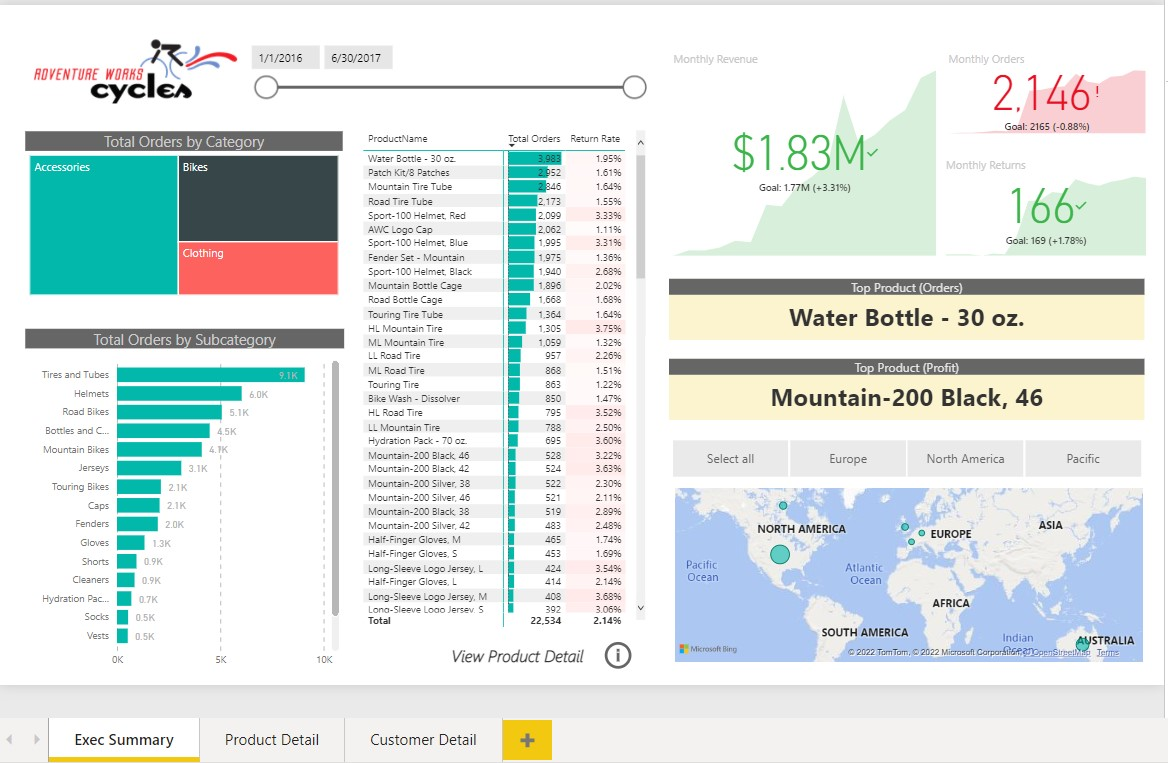

Layout of this report page (visuals, bound fields, positions):
{"tool":"powerbi","page":{"name":"Exec Summary","canvas":[1280,720],"ordinal":0},"visuals":[{"type":"map","fields":{"Category":["AW_Territories_Lookup.Country"],"Size":["AW_Sales.Total Orders"]},"box":[737.2,499.1,523.3,201.3],"z":0},{"type":"slicer","fields":{"Values":["AW_Territories_Lookup.Continent"]},"box":[714.2,443.9,564.7,54.1],"z":1000},{"type":"textbox","box":[492.1,670.1,259.7,37.7],"z":2000},{"type":"image","box":[31.1,5.5,240.2,80.1],"z":3000},{"type":"barChart","title":"Total Orders by Subcategory","fields":{"Y":["AW_Sales.Total Orders"],"Category":["AW_Product_Subcategory_Lookup.SubcategoryName"]},"box":[28.6,328.3,350,380.9],"z":4000},{"type":"treemap","title":"Total Orders by Category","fields":{"Group":["AW_Product_Category_Lookup.CategoryName","AW_Product_Subcategory_Lookup.SubcategoryName"],"Values":["AW_Sales.Total Orders"]},"box":[29.3,110.7,348.9,185.3],"z":5000},{"type":"pivotTable","fields":{"Values":["AW_Sales.Total Orders","AW_Returns.Return Rate"],"Rows":["AW_Product_Category_Lookup.CategoryName","AW_Product_Subcategory_Lookup.SubcategoryName","AW_Product_Lookup.ProductName"]},"box":[395.8,106.4,319.1,555.7],"z":6000},{"type":"slicer","fields":{"Values":["AW_Calendar_Lookup.Date"]},"box":[265.4,7.3,454.1,85.8],"z":7000},{"type":"kpi","title":"Monthly Revenue","fields":{"Indicator":["AW_Sales.Total Revenue"],"TrendLine":["AW_Calendar_Lookup.Start of Month"],"Goal":["AW_Sales.Prev Month Revenue"]},"box":[736.7,24,298.6,229.7],"z":8000},{"type":"kpi","title":"Monthly Orders","fields":{"TrendLine":["AW_Calendar_Lookup.Start of Month"],"Indicator":["AW_Sales.Total Orders"],"Goal":["AW_Sales.Prev Month Orders"]},"box":[1038.6,24,226.5,95.6],"z":9000},{"type":"kpi","title":"Monthly Returns","fields":{"TrendLine":["AW_Calendar_Lookup.Start of Month"],"Indicator":["AW_Returns.Total Returns"],"Goal":["AW_Returns.Prev Month Returns"]},"box":[1035.2,139.6,229.9,112.8],"z":10000},{"type":"card","title":"Top Product (Orders)","fields":{"Values":["Min(AW_Product_Lookup.ProductName)"]},"box":[736.7,273.4,522.8,67.5],"z":11000},{"type":"card","title":"Top Product (Profit)","fields":{"Values":["Min(AW_Product_Lookup.ProductName)"]},"box":[736.7,360.8,522.8,67.5],"z":12000},{"type":"actionButton","box":[661.2,666.9,59.3,38.9],"z":13000}]}

Visuals, with their boxes on the page's 1280x720 design canvas (x1, y1, x2, y2). These are canvas units, not pixel positions in the 1168x763 screenshot, which may show the page scaled, cropped or inside an application window:
map - AW_Territories_Lookup.Country x AW_Sales.Total Orders: x1=737 y1=499 x2=1260 y2=700
slicer - AW_Territories_Lookup.Continent: x1=714 y1=444 x2=1279 y2=498
textbox: x1=492 y1=670 x2=752 y2=708
image: x1=31 y1=6 x2=271 y2=86
"Total Orders by Subcategory" barChart: x1=29 y1=328 x2=379 y2=709
"Total Orders by Category" treemap: x1=29 y1=111 x2=378 y2=296
pivotTable - AW_Sales.Total Orders x AW_Returns.Return Rate: x1=396 y1=106 x2=715 y2=662
slicer - AW_Calendar_Lookup.Date: x1=265 y1=7 x2=720 y2=93
"Monthly Revenue" kpi: x1=737 y1=24 x2=1035 y2=254
"Monthly Orders" kpi: x1=1039 y1=24 x2=1265 y2=120
"Monthly Returns" kpi: x1=1035 y1=140 x2=1265 y2=252
"Top Product (Orders)" card: x1=737 y1=273 x2=1260 y2=341
"Top Product (Profit)" card: x1=737 y1=361 x2=1260 y2=428
actionButton: x1=661 y1=667 x2=720 y2=706
